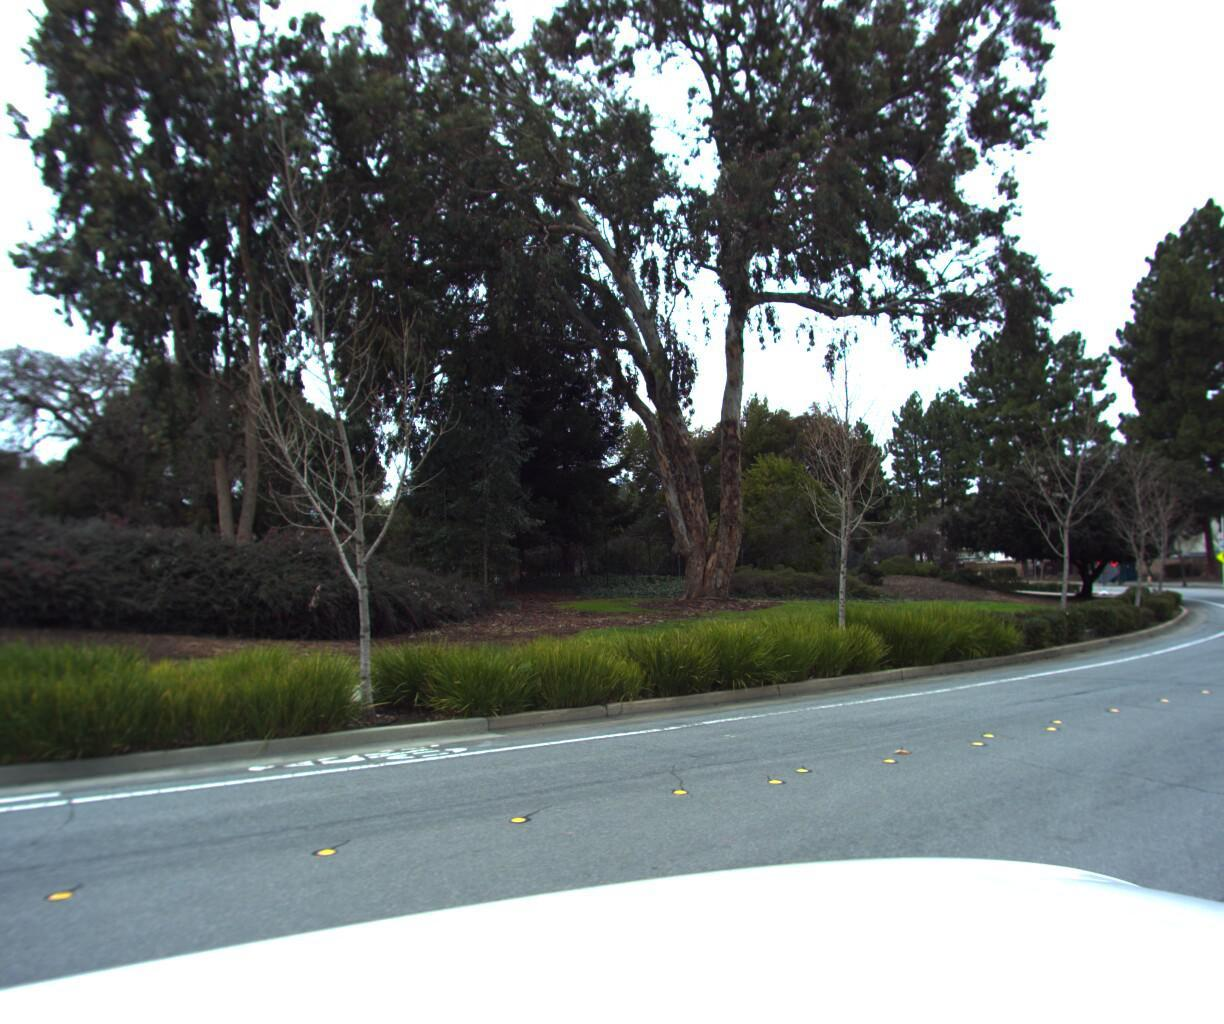truck: (1221, 526, 1224, 589)
